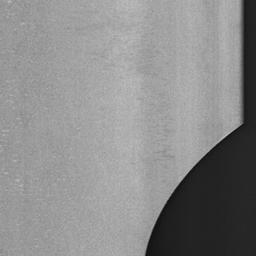Crescent gap: (145, 124, 242, 256)
